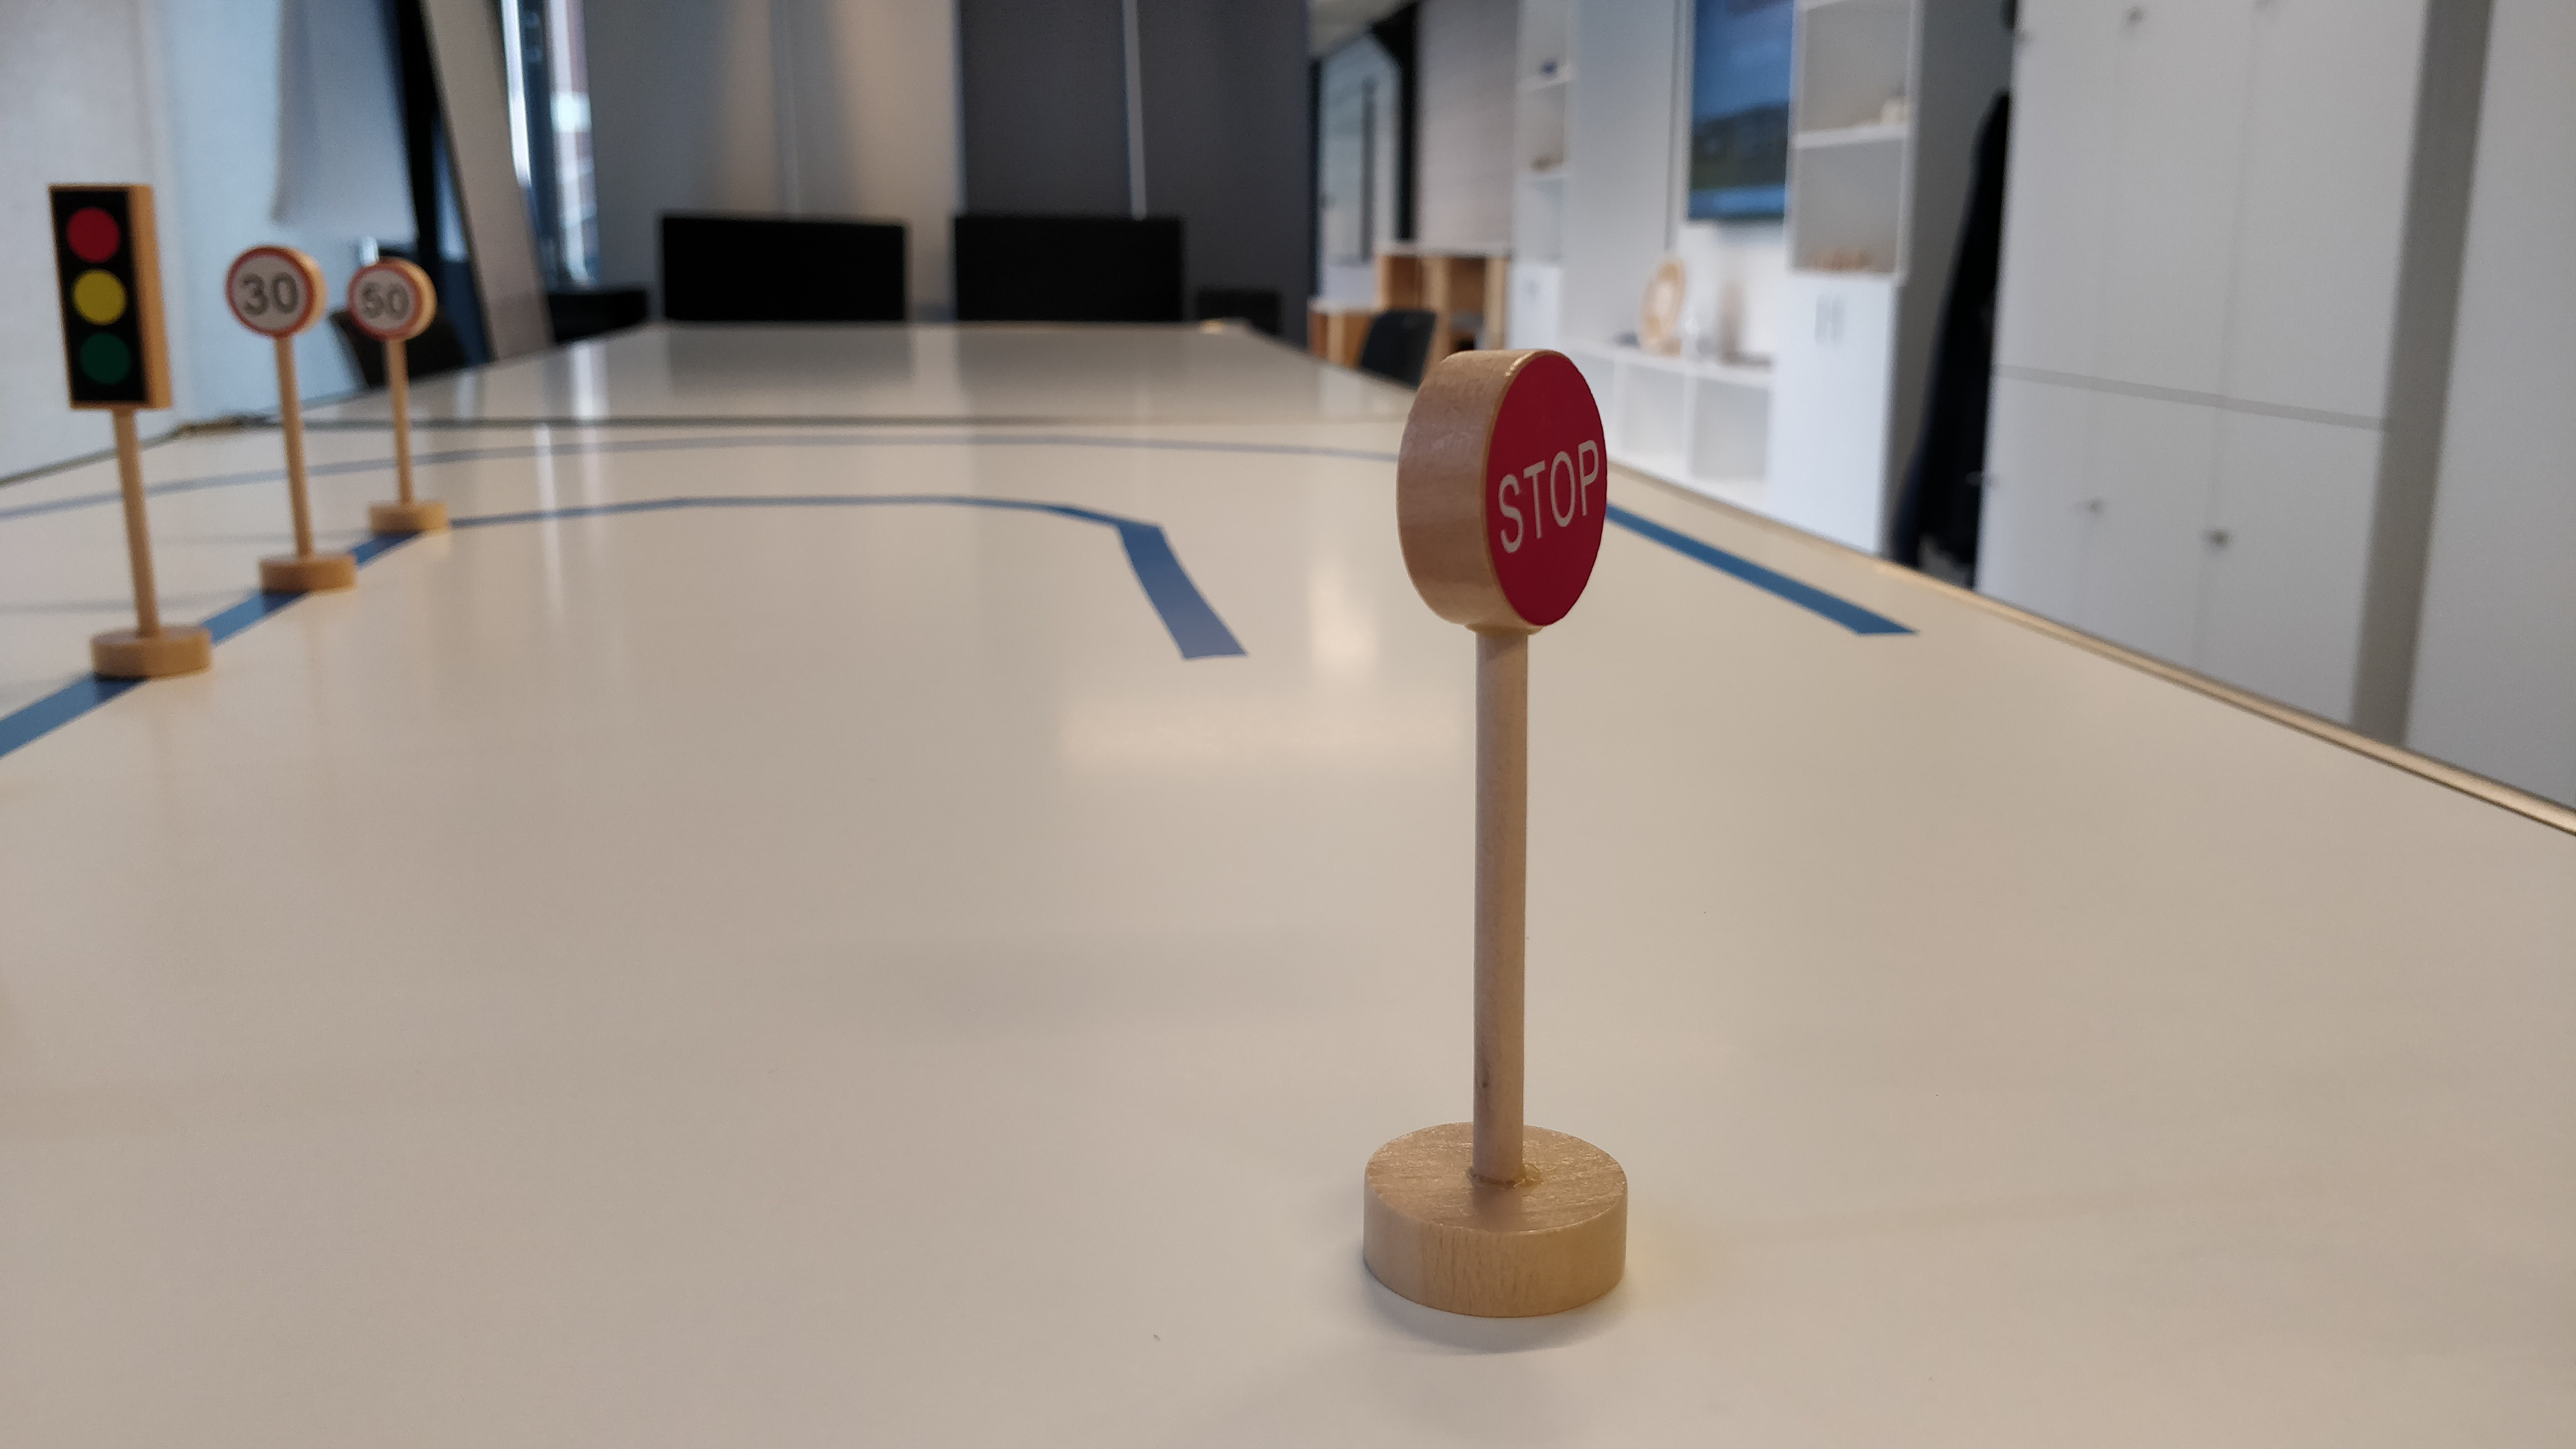Stop Sign: (1393, 345, 1616, 635)
